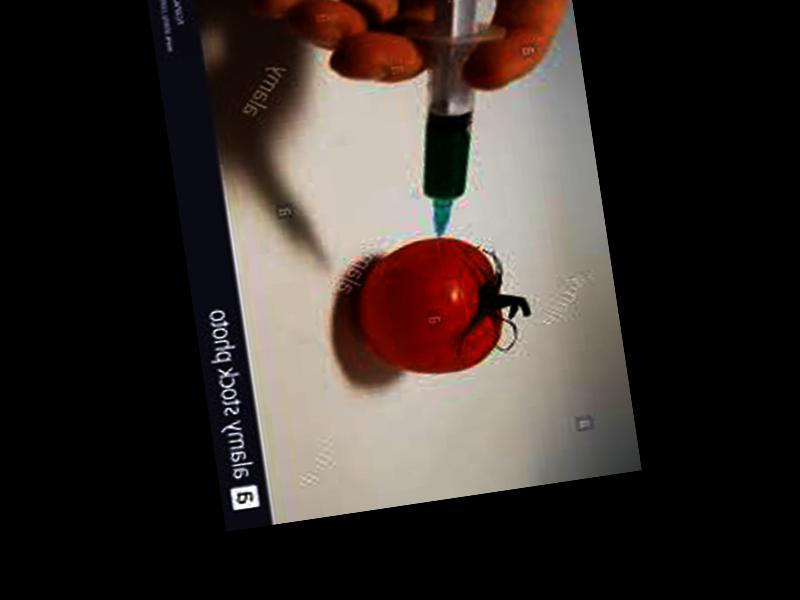Tomato: (348, 230, 508, 382)
